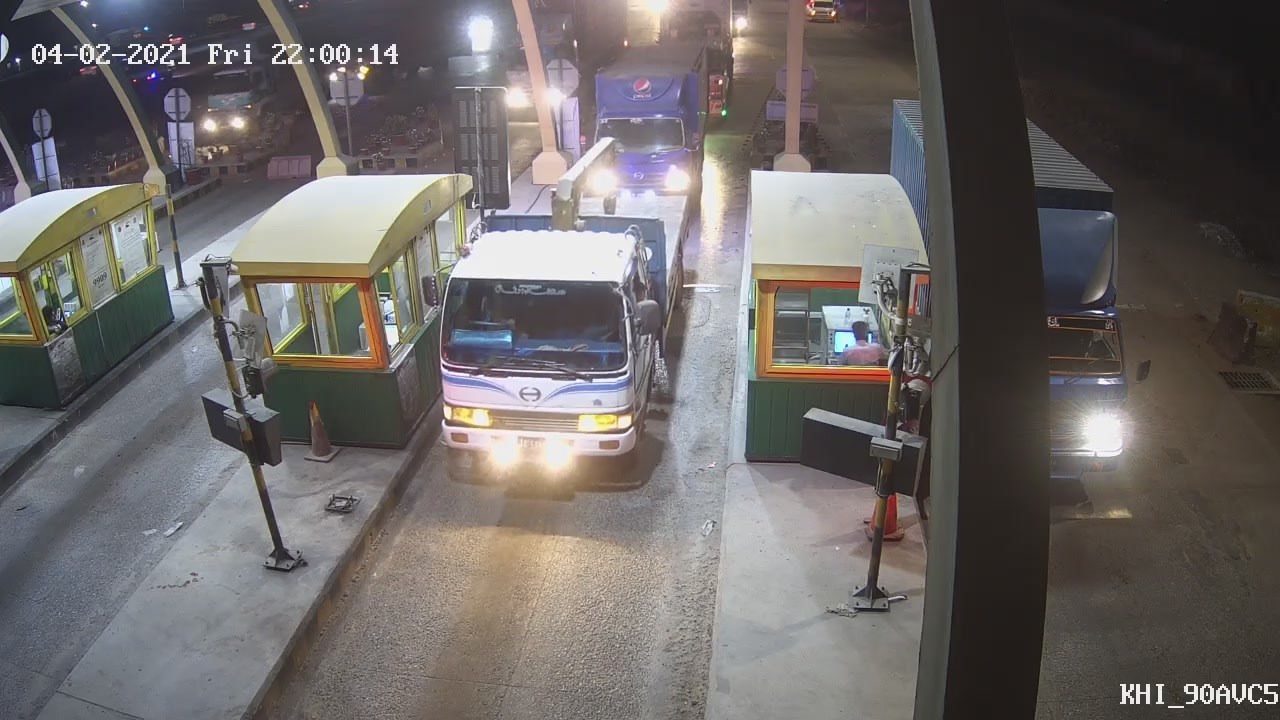F6: (419, 188, 687, 476)
